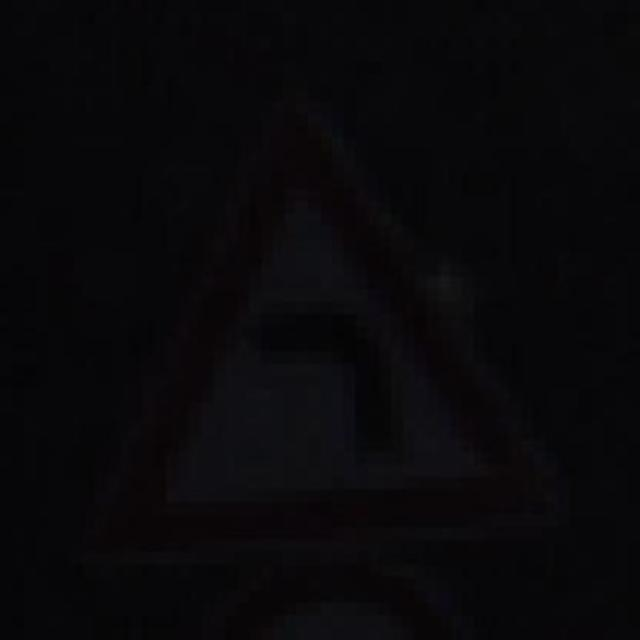Dangerous Left Curve Ahead: (106, 100, 557, 552)
